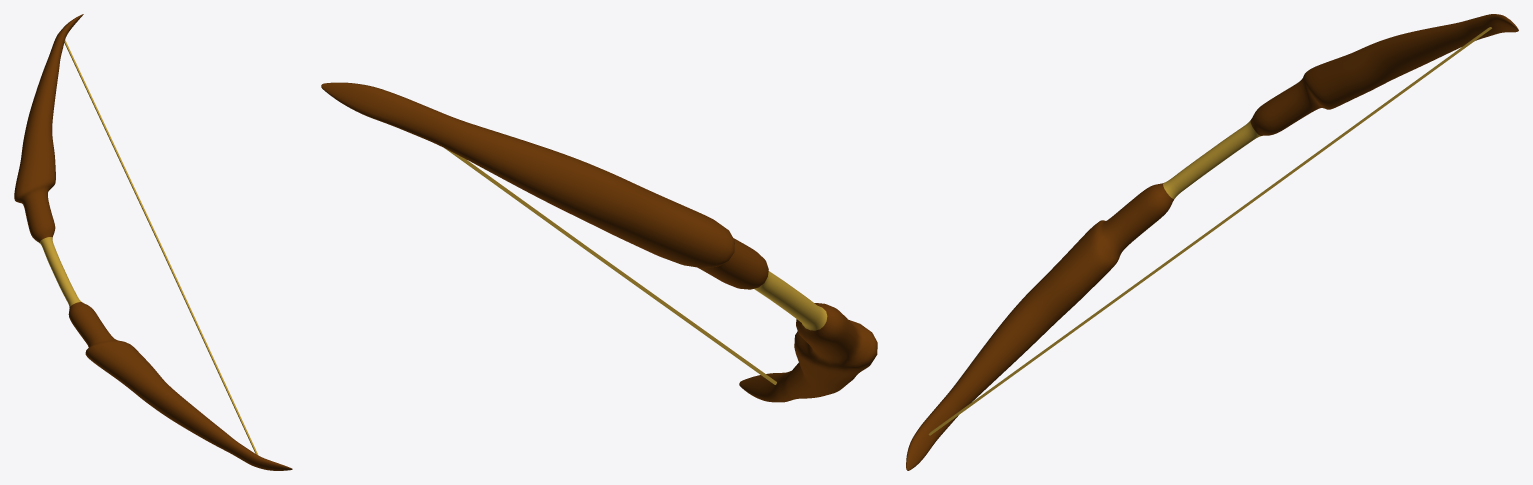
Rendered from ggbow.fbx.
3 views of the same model, side by side, from view 1: azimuth 30°, elevation 25°; view 2: azimuth 150°, elevation 25°; view 3: azimuth 270°, elevation 25° (orthographic). The views are drawn at different scales.
Parts seen in each view (by area): view 1: BOW; view 2: BOW; view 3: BOW.
Part boxes in pixels (bbox=[...]): BOW: bbox=[14, 14, 292, 470]; BOW: bbox=[321, 82, 877, 402]; BOW: bbox=[906, 14, 1518, 470].
Bounding box in the file's own units: 105 × 222 × 277.
